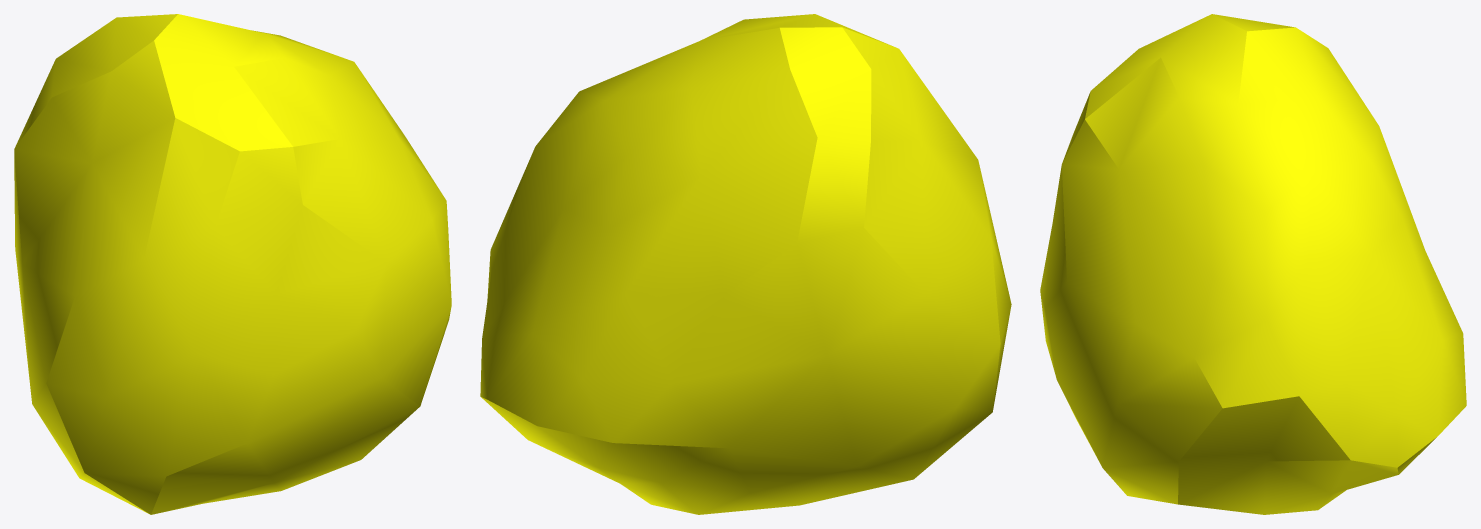
Rendered from kaykit-rock-3-h-color-1.glb.
3 views of the same model, side by side, from view 1: azimuth 30°, elevation 25°; view 2: azimuth 150°, elevation 25°; view 3: azimuth 270°, elevation 25° (orthographic). The views are drawn at different scales.
Parts seen in each view (by area): view 1: Rock_3_H_Color1; view 2: Rock_3_H_Color1; view 3: Rock_3_H_Color1.
Boxes of the visible parts, <box> form: Rock_3_H_Color1: <box>14,14,451,514</box>; Rock_3_H_Color1: <box>480,14,1011,514</box>; Rock_3_H_Color1: <box>1040,14,1466,514</box>.
Bounding box in the file's own units: 1.95 × 2.06 × 1.76.
